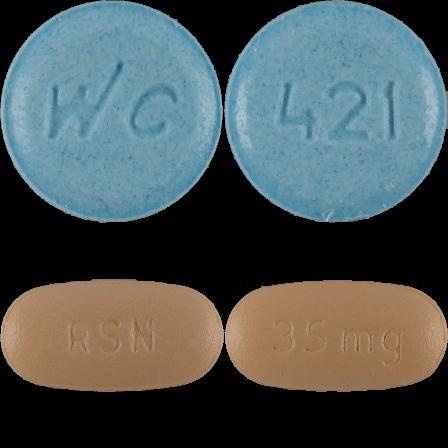0430-0420: (0, 0, 224, 224)
